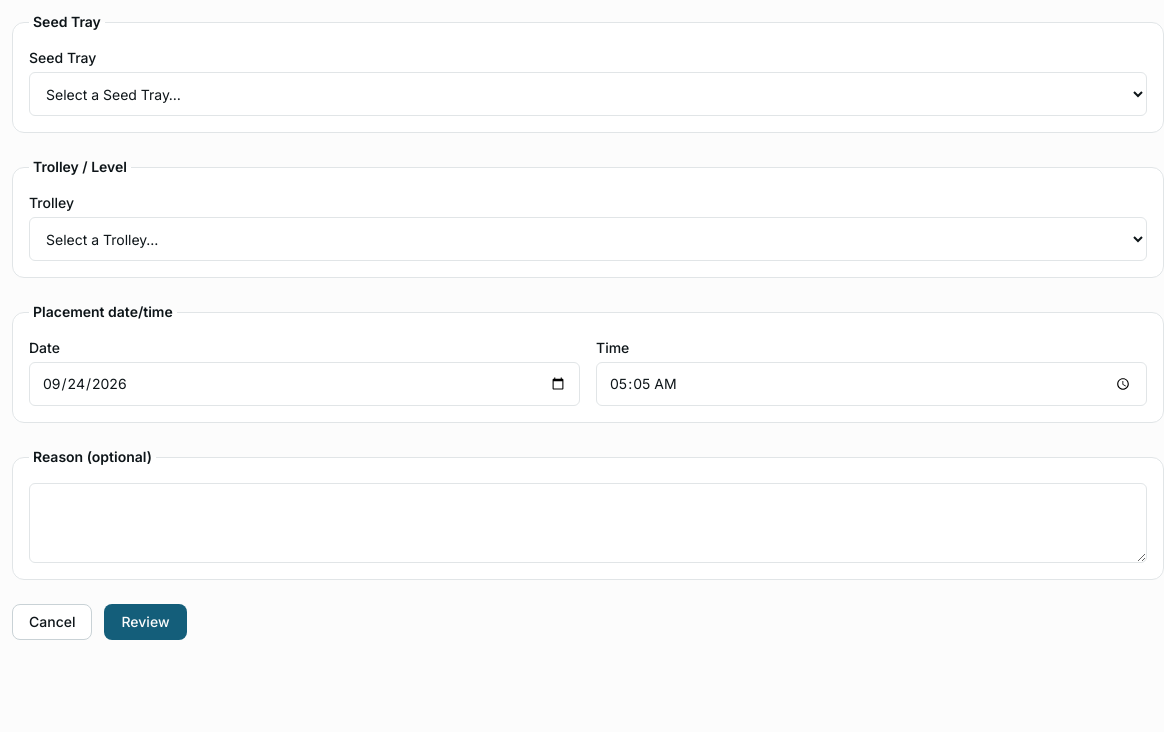
it: MoveTrayForm › shows a server error when the Trolley is rejected as not currently in Germination
Select "CB-0001 — ST-0001 (200 seeds)" in the dropdown labelled "Seed Tray" at [588, 94], box [29,72,1147,116]
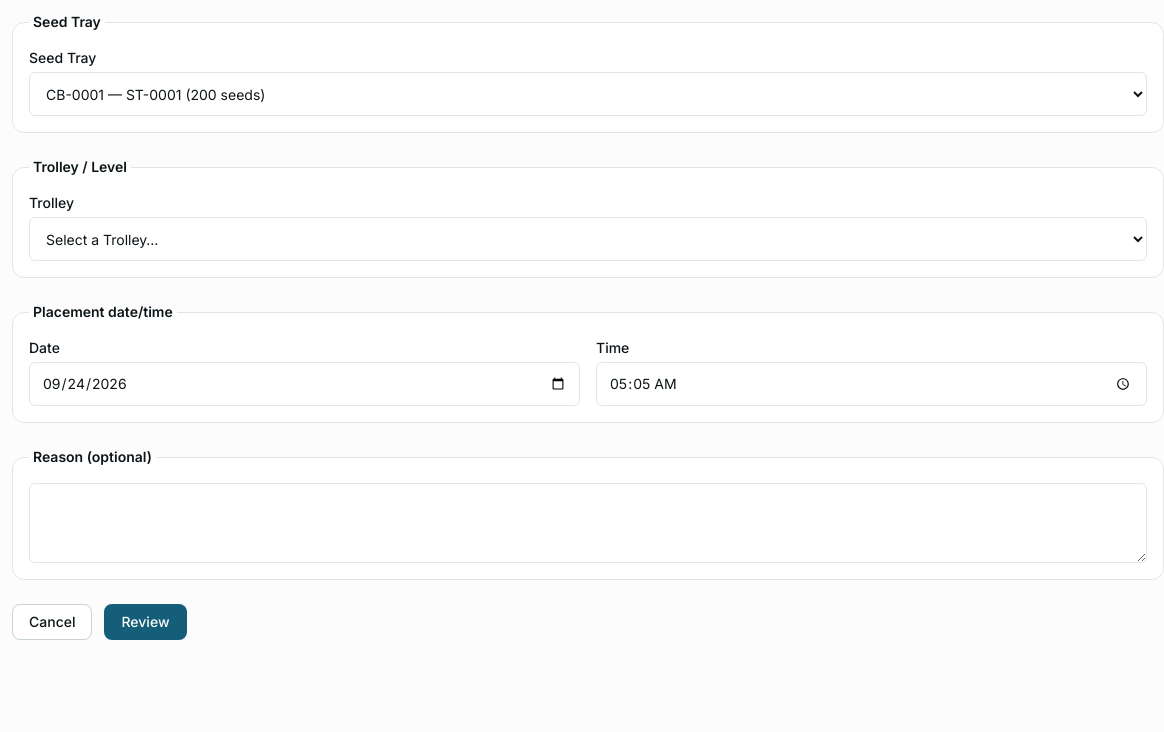
Select "GT-01 — GC-01 (5 of 6 free)" in the dropdown labelled "Trolley" at [588, 239], box [29,217,1147,261]
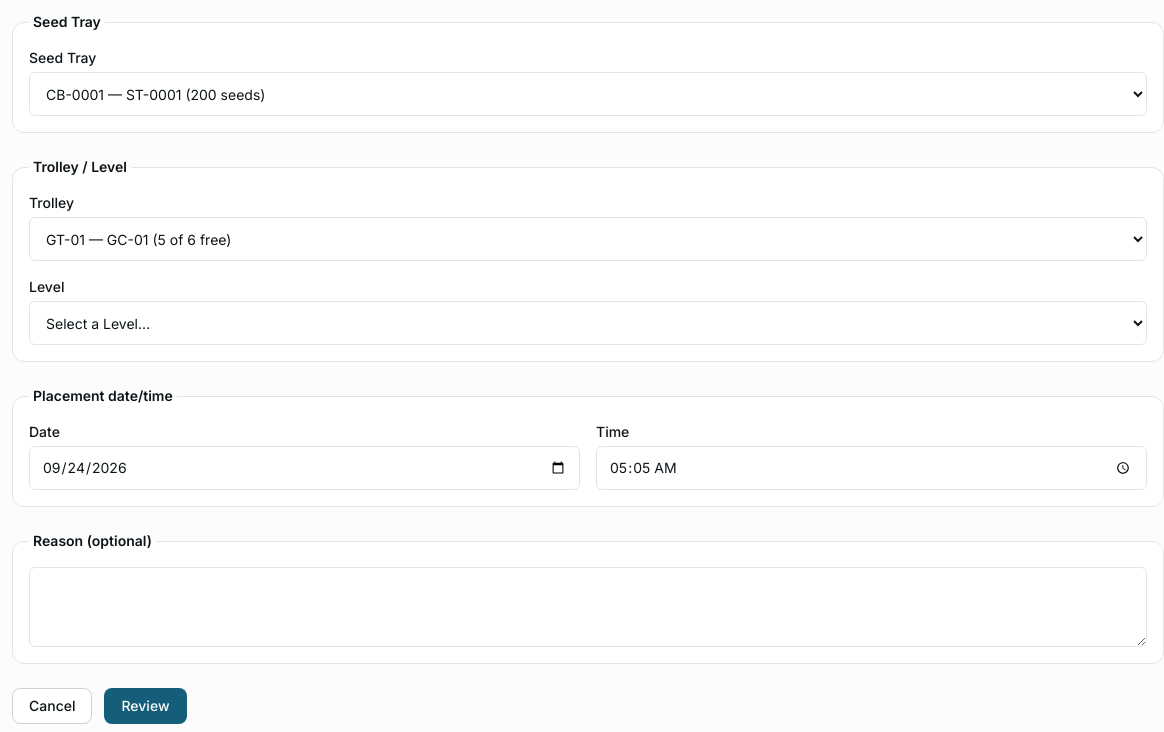
Select "GT-01-L01 (3 of 4 free)" in the dropdown labelled "Level" at [588, 323], box [29,301,1147,345]
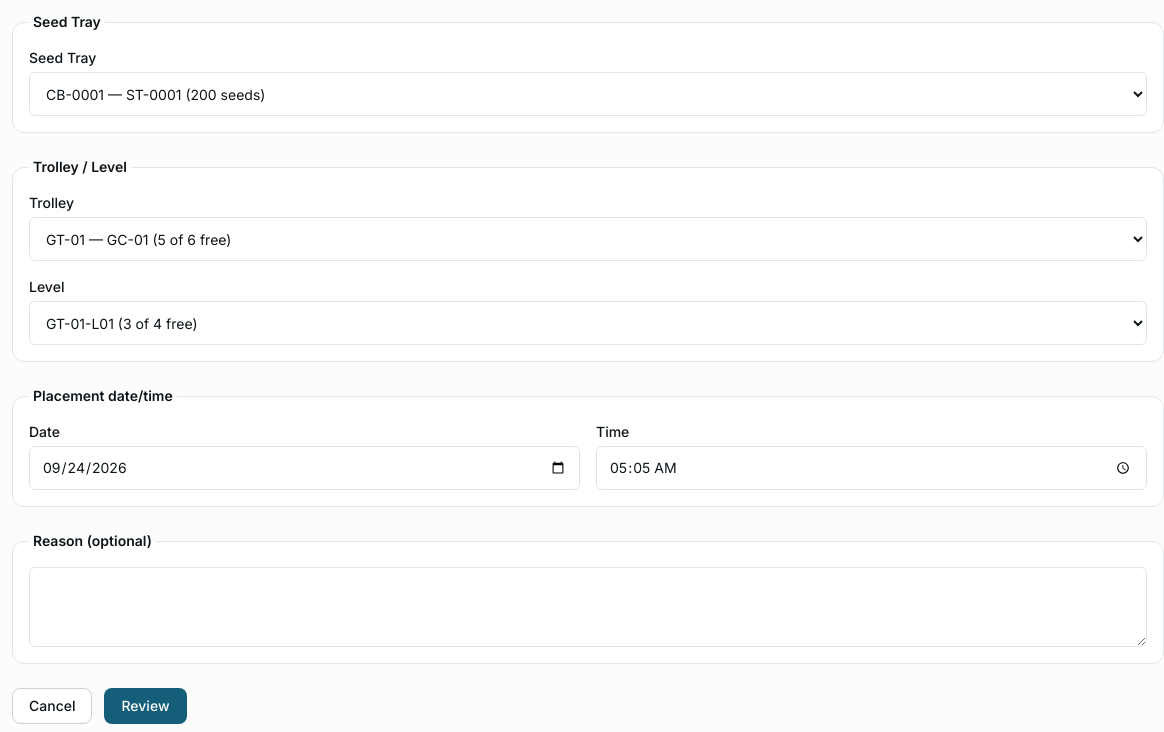
Click the button "Review" at [146, 706], box [104,688,186,724]
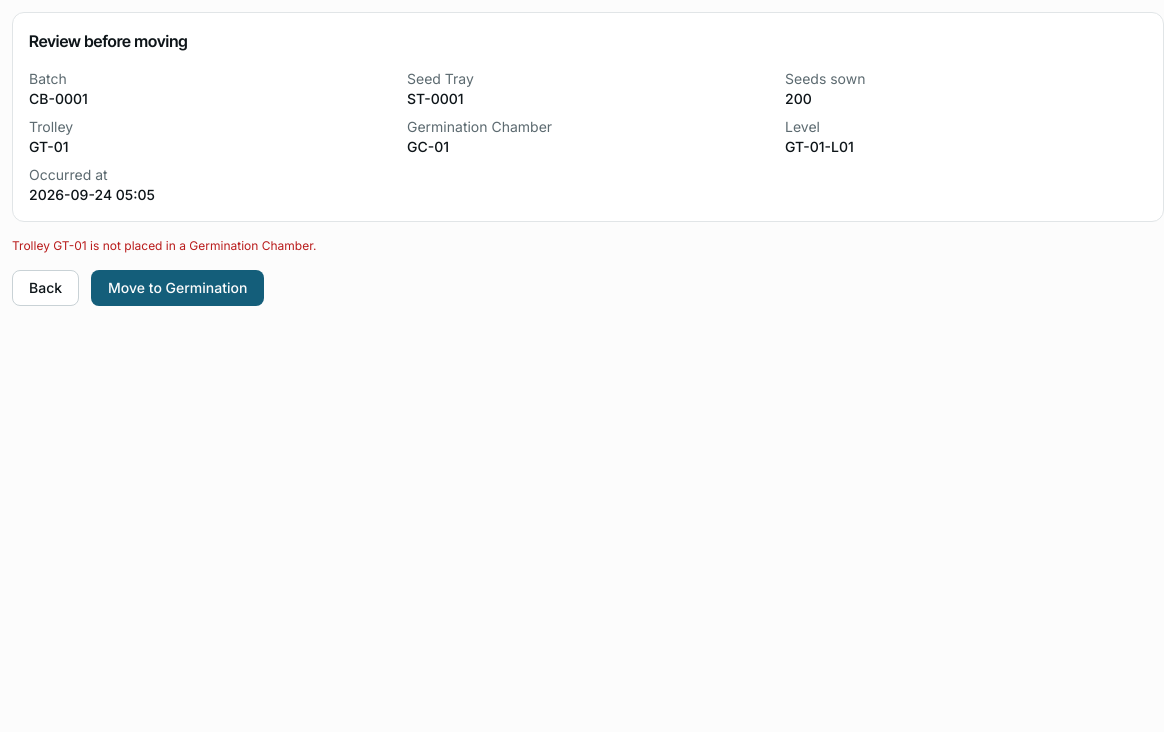
Result: the message shows "not placed in a Germination Chamber" at [12,238,316,253]
